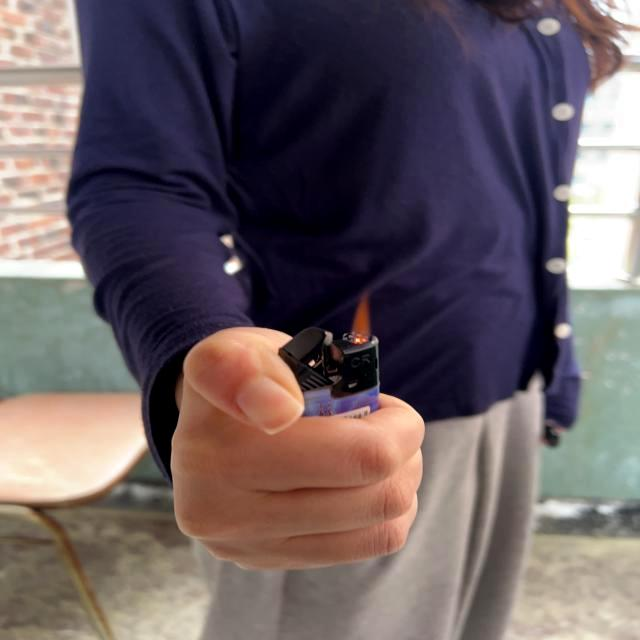fire: (351, 288, 369, 344)
